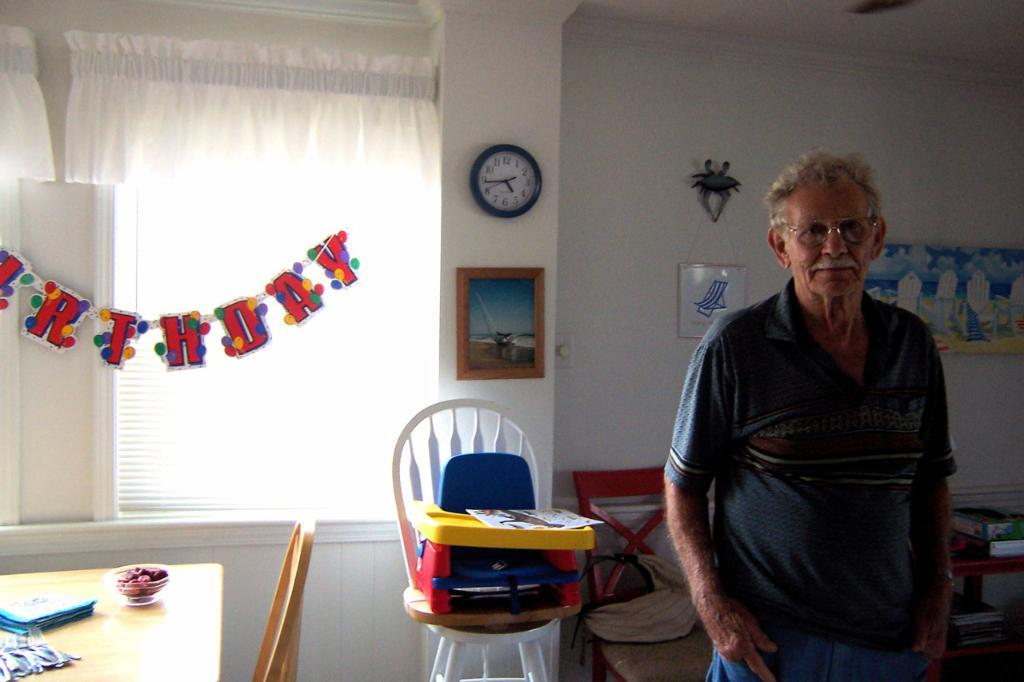Book: (0, 591, 97, 635)
Luggage-and-bags: (406, 499, 594, 614)
